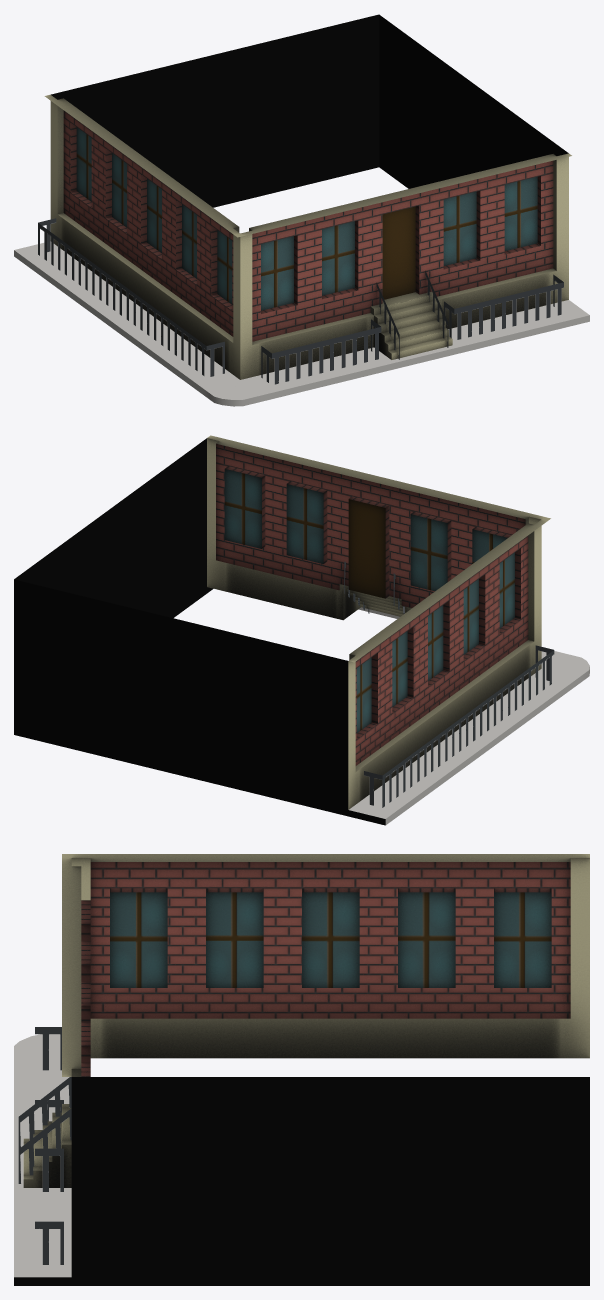
File: building corner ground.fbx
The picture shows the model from 3 angles, top to bottom: view 1: azimuth 30°, elevation 25°; view 2: azimuth 150°, elevation 25°; view 3: azimuth 270°, elevation 25°; orthographic projection. The views are drawn at different scales.
Parts seen in each view (by area): view 1: Building Corner Ground; view 2: Building Corner Ground; view 3: Building Corner Ground.
Part boxes in pixels (<box>): Building Corner Ground: <box>14,14,589,406</box>; Building Corner Ground: <box>14,435,589,825</box>; Building Corner Ground: <box>14,854,589,1285</box>.
Bounding box in the file's own units: 600 × 240 × 600.
